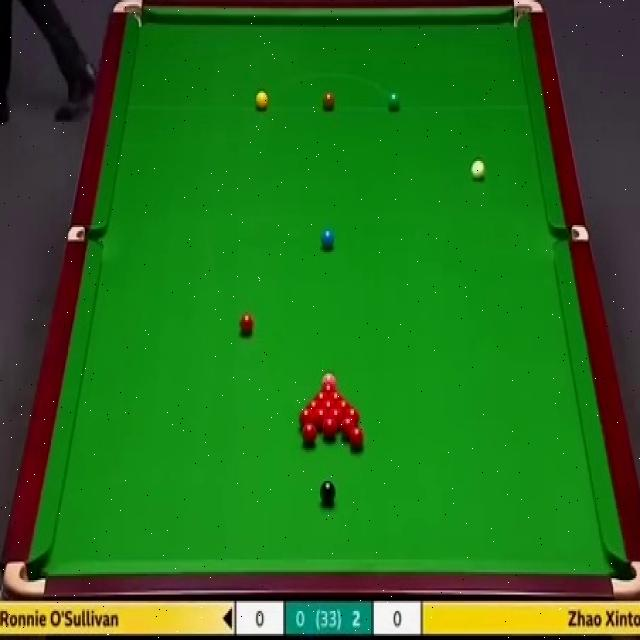black-ball: (319, 480, 337, 508)
blue-ball: (320, 228, 335, 251)
brown-ball: (322, 90, 335, 111)
green-ball: (387, 90, 400, 111)
pink-ball: (321, 371, 338, 386)
red-ball: (238, 310, 255, 338), (348, 429, 366, 452), (343, 418, 360, 440), (301, 422, 317, 444), (322, 417, 336, 439), (329, 409, 344, 429), (299, 407, 315, 424), (344, 409, 361, 425), (315, 408, 328, 427), (321, 400, 337, 410), (329, 391, 345, 401), (306, 399, 321, 409), (337, 400, 352, 410), (314, 391, 329, 400), (321, 383, 337, 391)
white-ball: (469, 155, 487, 184)
yellow-ball: (256, 91, 268, 111)
